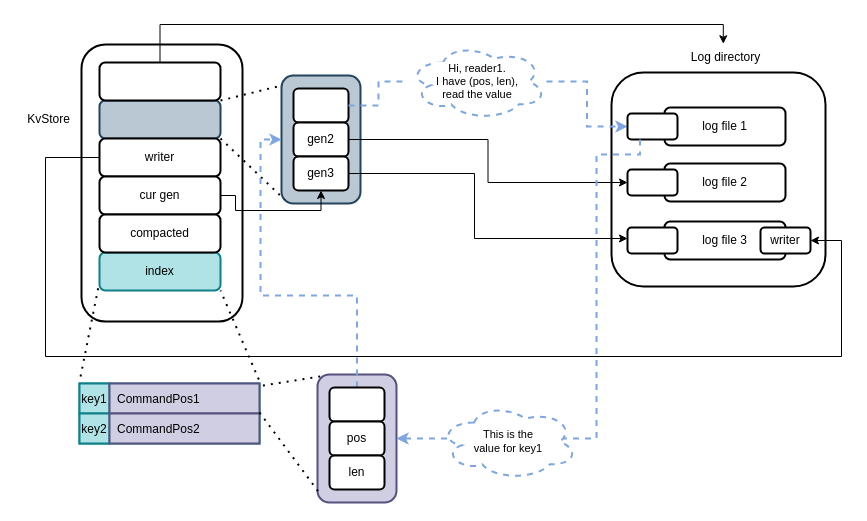
Some shapes in this 867 by 521 pixel diagram are drawn without their labels. Here are the shapes that lost their labels. From the top down, the centre of each, then its label:
At [159,81]: "log path".
At [159,119]: "readers".
At [320,105]: "gen1".
At [652,126]: "reader1".
At [652,182]: "reader2".
At [652,240]: "reader3".
At [356,404]: "gen".
